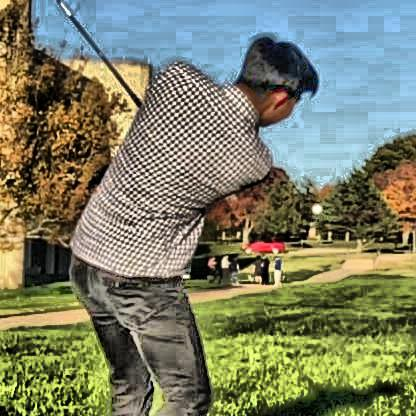golfball: (306, 201, 321, 213)
